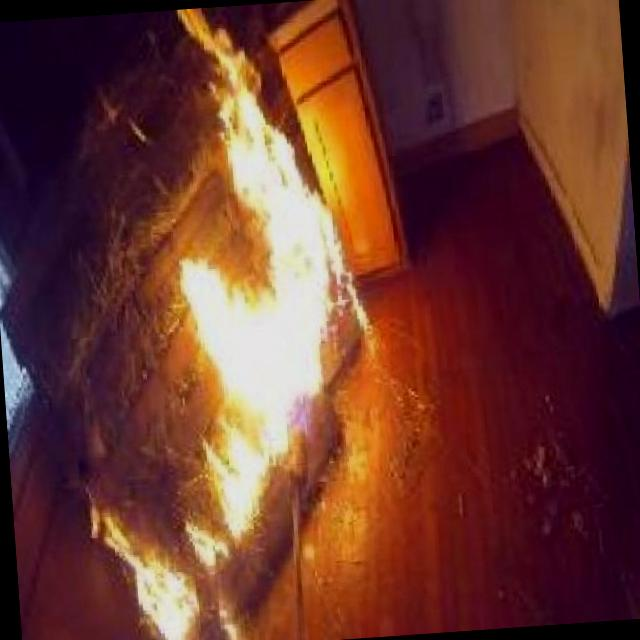fire: (67, 11, 390, 591)
